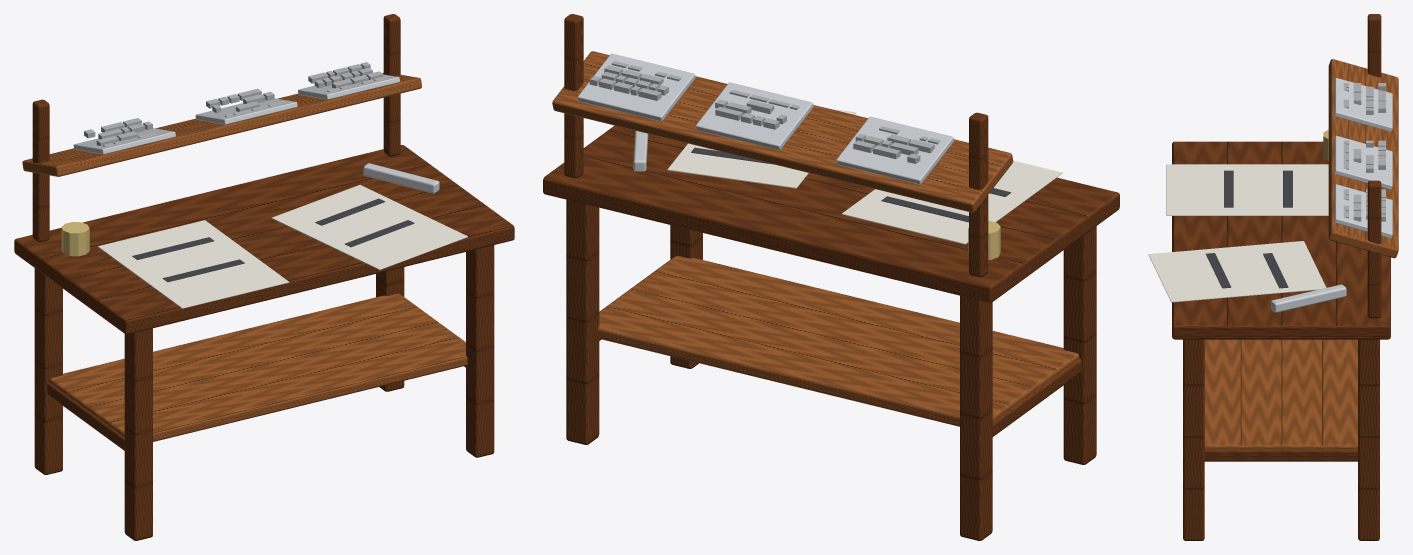
The model's file is printing-press-and-newspaper-office-make-up-table-adb563e1__37740.glb.
3 renders of one model, left to right at view 1: azimuth 30°, elevation 25°; view 2: azimuth 150°, elevation 25°; view 3: azimuth 270°, elevation 25°, orthographic. The views are drawn at different scales.
Visible parts, largest first — view 1: make-up-table; view 2: make-up-table; view 3: make-up-table.
Boxes of the visible parts, left/top/right/bottom form: make-up-table: left=14, top=14, right=514, bottom=540; make-up-table: left=543, top=14, right=1119, bottom=540; make-up-table: left=1148, top=14, right=1398, bottom=540.
Size of the model in its own units: 1.6 by 1.44 by 0.9135.
Materials: 7 (2 with a texture image).
